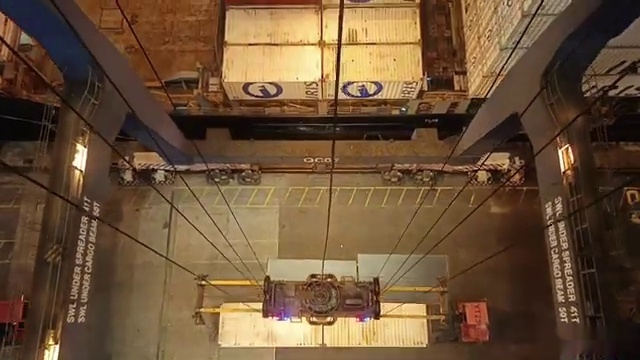container: (210, 300, 441, 355), (223, 43, 429, 102), (214, 0, 430, 35), (222, 8, 421, 43), (207, 1, 436, 31), (213, 0, 436, 21), (210, 0, 435, 20), (213, 0, 437, 16)
guide_mark: (75, 340, 550, 360), (111, 186, 539, 206)
spreader: (191, 268, 453, 330)
target_slot: (189, 258, 458, 330)
